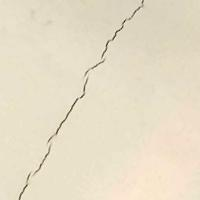crack: (12, 0, 147, 199)
